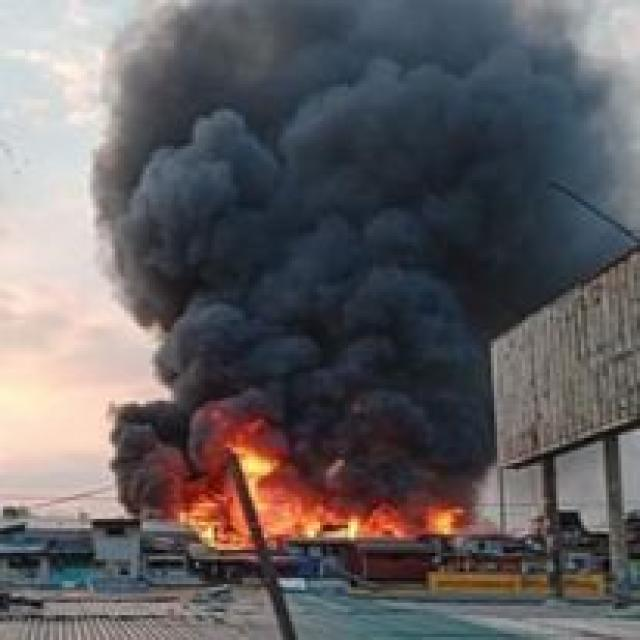Fire: (154, 414, 494, 561)
Smoke: (98, 5, 640, 520)
